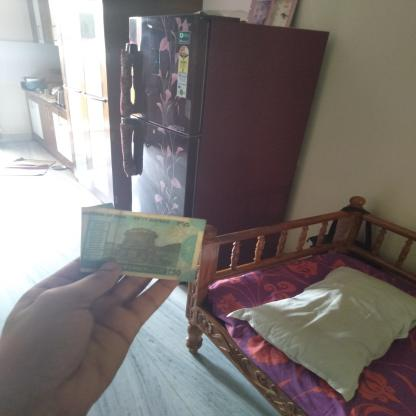New50Back: (77, 209, 205, 276)
